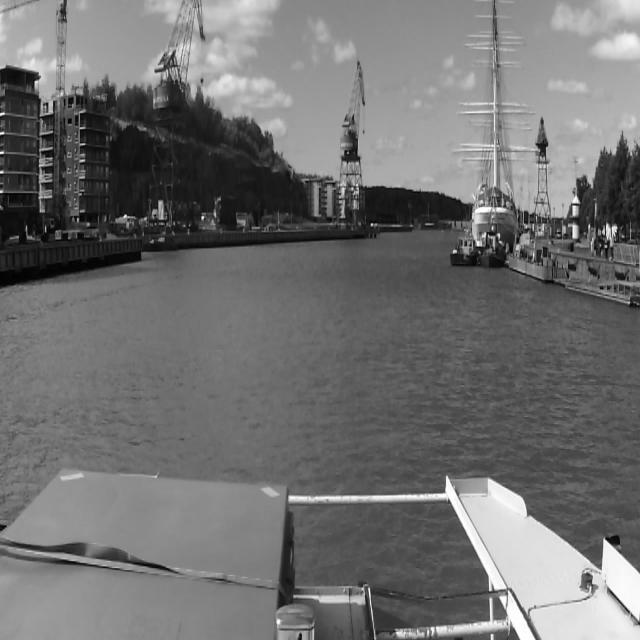ship: (470, 0, 520, 232), (449, 235, 478, 268), (481, 232, 503, 268)
